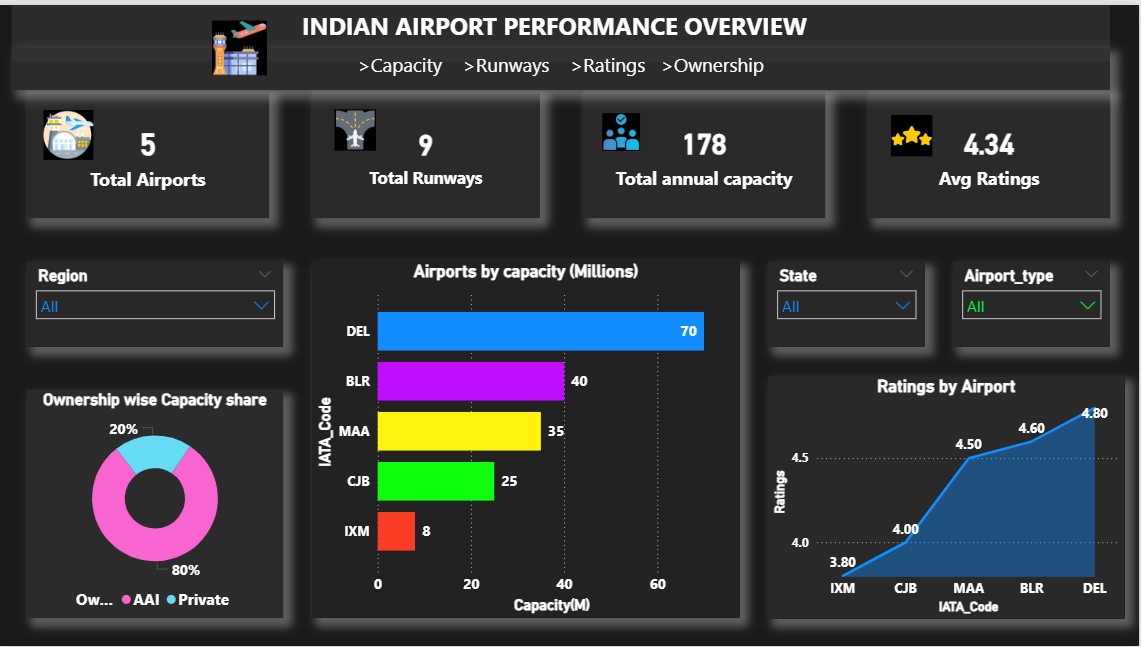

This screenshot's page, from the dashboard's own definition file:
{"tool":"powerbi","page":{"name":"Page 1","canvas":[1280,720],"ordinal":0},"visuals":[{"type":"card","fields":{"Values":["Count(Airport.Airport Name)"]},"box":[32,96,272,144],"z":0},{"type":"card","fields":{"Values":["Sum(Airport.Runway_count)"]},"box":[352,96,256,144],"z":1000},{"type":"card","fields":{"Values":["Sum(Airport.AnnualCap_Millions)"]},"box":[656,96,272,144],"z":2000},{"type":"card","fields":{"Values":["Avg(Airport.Ratings)"]},"box":[976,96,272,144],"z":3000},{"type":"barChart","title":"Airports by capacity (Millions)","fields":{"Y":["Sum(Airport.AnnualCap_Millions)"],"Category":["Airport.IATA_Code"]},"box":[352,288,480,400],"z":4000},{"type":"slicer","fields":{"Values":["Airport.Region"]},"box":[32,288,288,96],"z":5000},{"type":"donutChart","title":"Ownership wise Capacity share","fields":{"Category":["Airport.Ownership"],"Y":["CountNonNull(Airport.AnnualCap_Millions)"]},"box":[32,432,288,256],"z":6000},{"type":"slicer","fields":{"Values":["Airport.State"]},"box":[864,288,176,96],"z":7000},{"type":"slicer","fields":{"Values":["Airport.Airport_type"]},"box":[1072,288,176,96],"z":8000},{"type":"areaChart","title":"Ratings by Airport","fields":{"Category":["Airport.IATA_Code"],"Y":["Sum(Airport.Ratings)"]},"box":[864,416,400,272],"z":9000},{"type":"textbox","box":[16,0,1232,64],"z":10000},{"type":"textbox","box":[16,48,1232,48],"z":11000},{"type":"image","box":[208.9,12.6,123.4,71.5],"z":12000},{"type":"image","box":[46.3,95.4,65.9,101],"z":13000},{"type":"image","box":[352,112.2,98.2,56.1],"z":14000},{"type":"image","box":[656.3,116.4,85.5,51.9],"z":15000},{"type":"image","box":[997,112.2,56.1,68.7],"z":16000}]}

Visuals, with their boxes in screenshot pixels (x1, y1, x2, y2), scaled from the page's 1280x720 canvas onto the 1141x647 screenshot:
card - Count(Airport.Airport Name): bbox(29, 86, 271, 216)
card - Sum(Airport.Runway_count): bbox(314, 86, 542, 216)
card - Sum(Airport.AnnualCap_Millions): bbox(585, 86, 827, 216)
card - Avg(Airport.Ratings): bbox(870, 86, 1112, 216)
"Airports by capacity (Millions)" barChart: bbox(314, 259, 742, 618)
slicer - Airport.Region: bbox(29, 259, 285, 345)
"Ownership wise Capacity share" donutChart: bbox(29, 388, 285, 618)
slicer - Airport.State: bbox(770, 259, 927, 345)
slicer - Airport.Airport_type: bbox(956, 259, 1112, 345)
"Ratings by Airport" areaChart: bbox(770, 374, 1127, 618)
textbox: bbox(14, 0, 1112, 58)
textbox: bbox(14, 43, 1112, 86)
image: bbox(186, 11, 296, 76)
image: bbox(41, 86, 100, 176)
image: bbox(314, 101, 401, 151)
image: bbox(585, 105, 661, 151)
image: bbox(889, 101, 939, 163)
